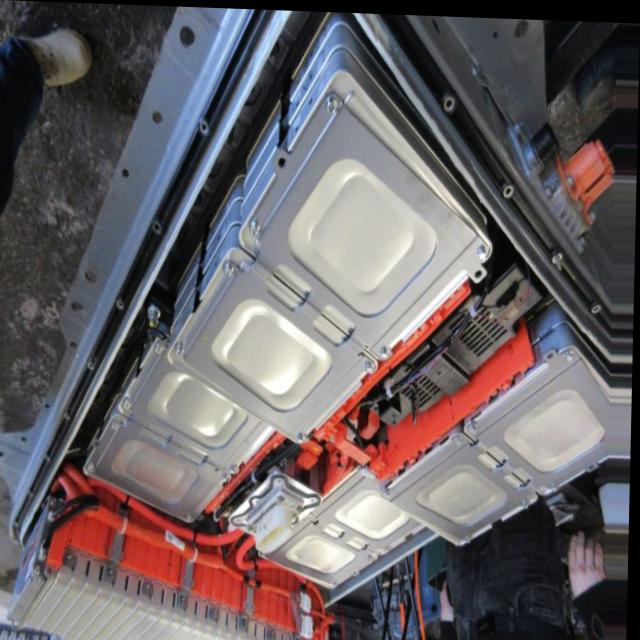Battery Module: (190, 83, 482, 434), (394, 357, 620, 541), (100, 355, 270, 512), (276, 477, 421, 582)
Bolt: (323, 93, 340, 110), (565, 341, 579, 361), (152, 340, 167, 356), (472, 412, 484, 432), (460, 528, 476, 543), (354, 464, 368, 480), (224, 260, 237, 277), (305, 509, 318, 526), (111, 416, 125, 431), (550, 472, 564, 487), (300, 425, 310, 445), (251, 219, 263, 235), (87, 458, 99, 473), (478, 243, 488, 260), (222, 469, 234, 483), (456, 426, 464, 447), (367, 356, 377, 371), (381, 343, 390, 359), (233, 459, 242, 474), (175, 343, 186, 355), (123, 398, 134, 410), (385, 486, 398, 496), (333, 575, 341, 589), (270, 549, 280, 559), (187, 510, 196, 521)
Bus-bar: (332, 422, 373, 463), (49, 517, 75, 565)
Cable: (91, 480, 322, 613)
Nut: (242, 614, 251, 629), (146, 580, 157, 591), (271, 625, 280, 637), (111, 565, 118, 579), (69, 551, 77, 562), (214, 604, 221, 616), (182, 595, 191, 603), (296, 635, 308, 640)
